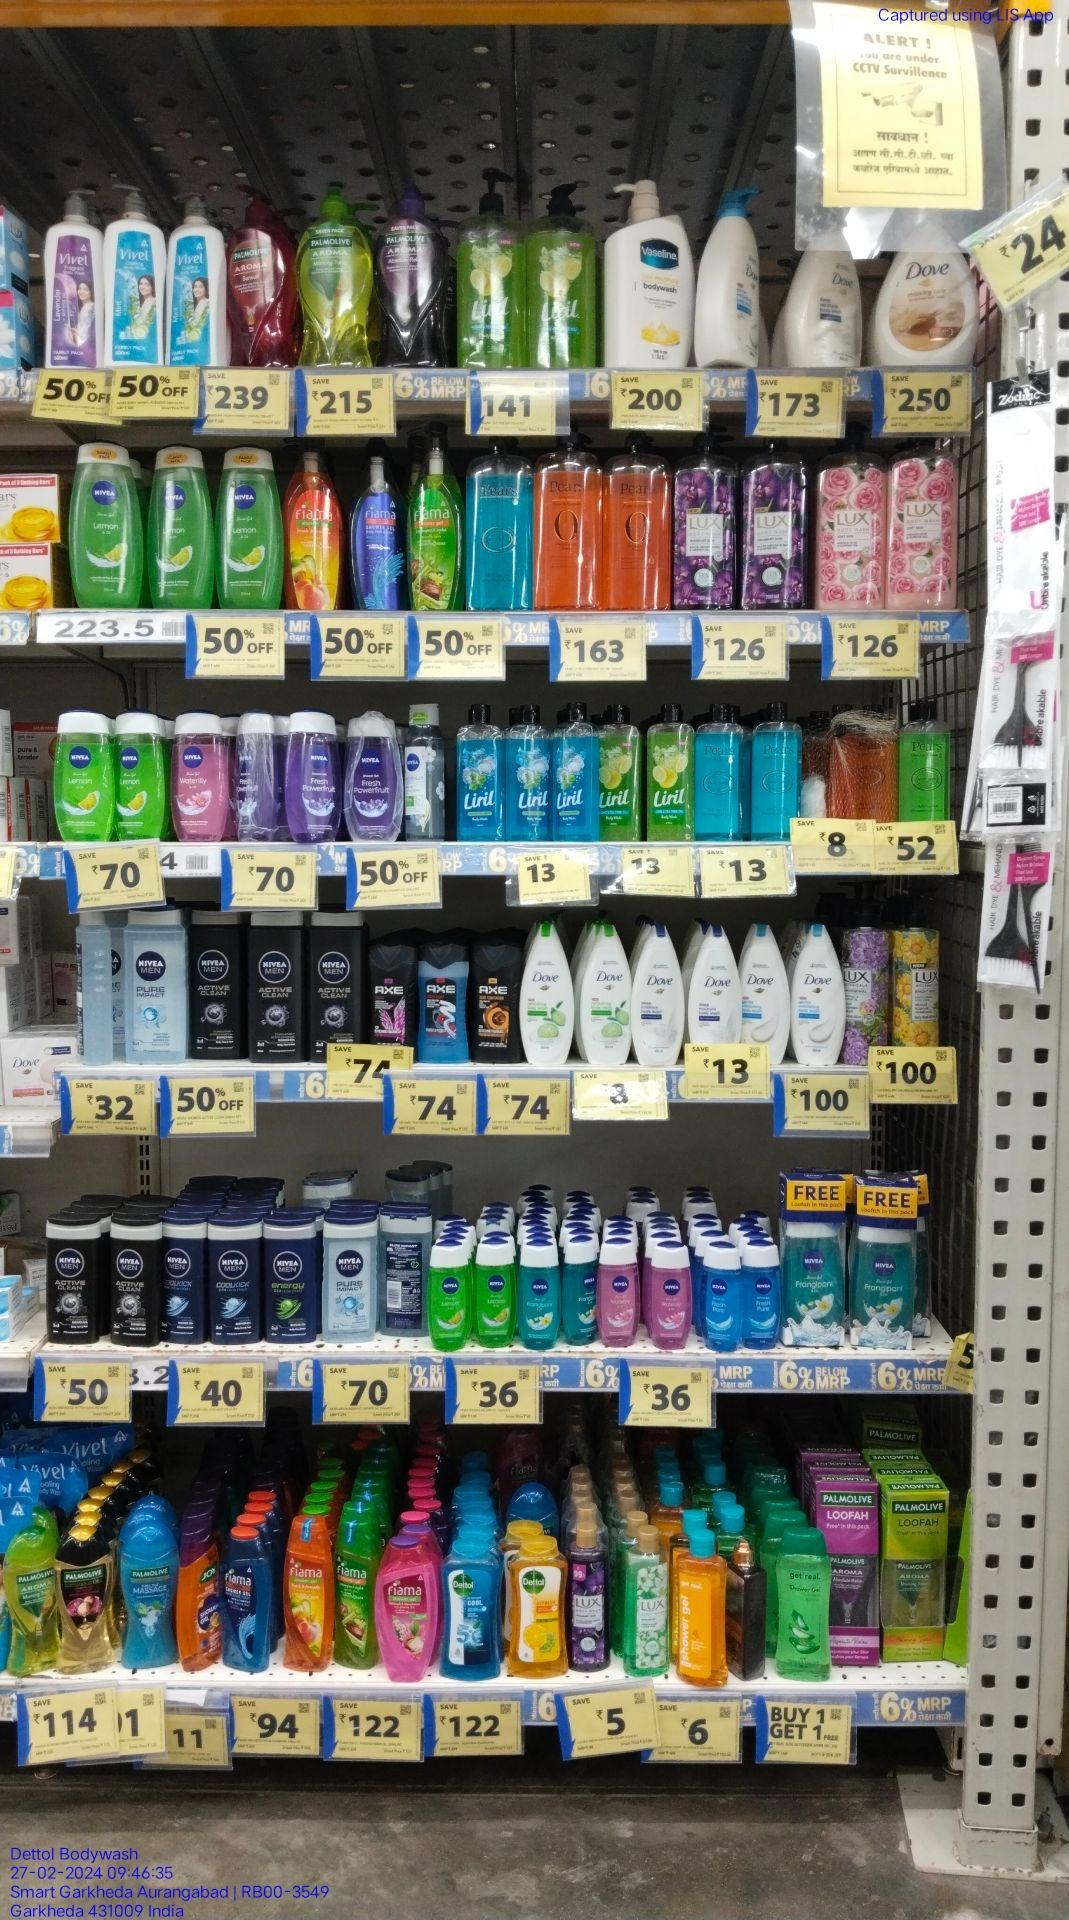Dettol_Bodywash_Cool: (444, 1536, 504, 1686)
Dettol_Bodywash_Refresh: (511, 1537, 567, 1678)
Dove_Deep_Moisture_Body_Wash_250ML: (632, 920, 683, 1070), (692, 922, 733, 1045)
Dove_Gentle_Exfoliating_Body_Wash_250ML: (740, 929, 790, 1063), (795, 926, 841, 1067)
Dove_Refreshing_Body_Wash_250ML: (520, 924, 573, 1069), (583, 919, 628, 1065)
Fiama_Shower_Gel_Lemongrass_and_Jojoba_250ML: (336, 1521, 370, 1677)
Fiama_Shower_Gel_Patchouli_and_Macadamia_250ML: (378, 1537, 432, 1687)
Fiama_Shower_Gel_Peach_and_Avocado_250ML: (283, 1519, 330, 1671)
Joy_Shower_Gel_Mandarin_and_Lemongrass_250ML: (182, 1530, 222, 1674)
Liril_Cooling_Mint_Body_Wash_250ML: (553, 699, 595, 844), (458, 703, 499, 842), (508, 703, 548, 842)
Liril_Lime_and_Tea_Tree_Oil_Body_Wash_250ML: (649, 701, 694, 846), (596, 695, 639, 844)
Lux_Black_Orchid_Scent_and_Juniper_Oil_Body_Wash_245ML: (567, 1521, 611, 1674)
Lux_Body_Wash_Skin_Detox_Freesia_Scent_and_Alove_Vera_245ML: (631, 1528, 673, 1680)
Nivea_Shower_Gel_Frangipani_and_Oil_250ML: (520, 1242, 561, 1352), (562, 1238, 596, 1348)
Nivea_Shower_Gel_Fresh_Powerfruit_250ML: (346, 711, 403, 842), (288, 713, 340, 844)
Nivea_Shower_Gel_Lemon_and_Oil_250ML: (71, 434, 140, 609), (217, 446, 280, 608), (150, 443, 212, 608), (53, 705, 108, 842), (113, 705, 167, 844), (427, 1246, 473, 1349), (478, 1237, 515, 1350)
Nivea_Shower_Gel_Waterlily_and_Oil_250ML: (172, 709, 228, 844), (596, 1230, 639, 1346), (650, 1240, 692, 1353)
Palmolive_Aroma_Moments_Feel_The_Massage_Shower_Gel_250ML: (124, 1521, 178, 1675)
Palmolive_Aroma_Morning_Tonic_Shower_Gel_250ML: (3, 1529, 55, 1677)
Palmolive_Luminous_Oils_Invigorating_Macadamia_Oil_With_Peony_250ML: (59, 1530, 111, 1682)
Pears_Pure_Glycerin_and_Lemon_Flower_Extracts_Body_Wash_250ML: (899, 696, 953, 821)
Pears_Pure_Glycerin_and_Mint_Extracts_Body_Wash_250ML: (699, 701, 744, 842), (756, 696, 798, 842)
